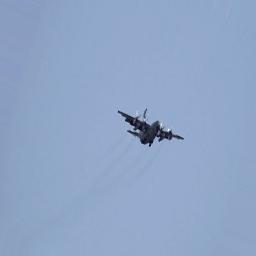Airplane: (117, 106, 185, 147)
